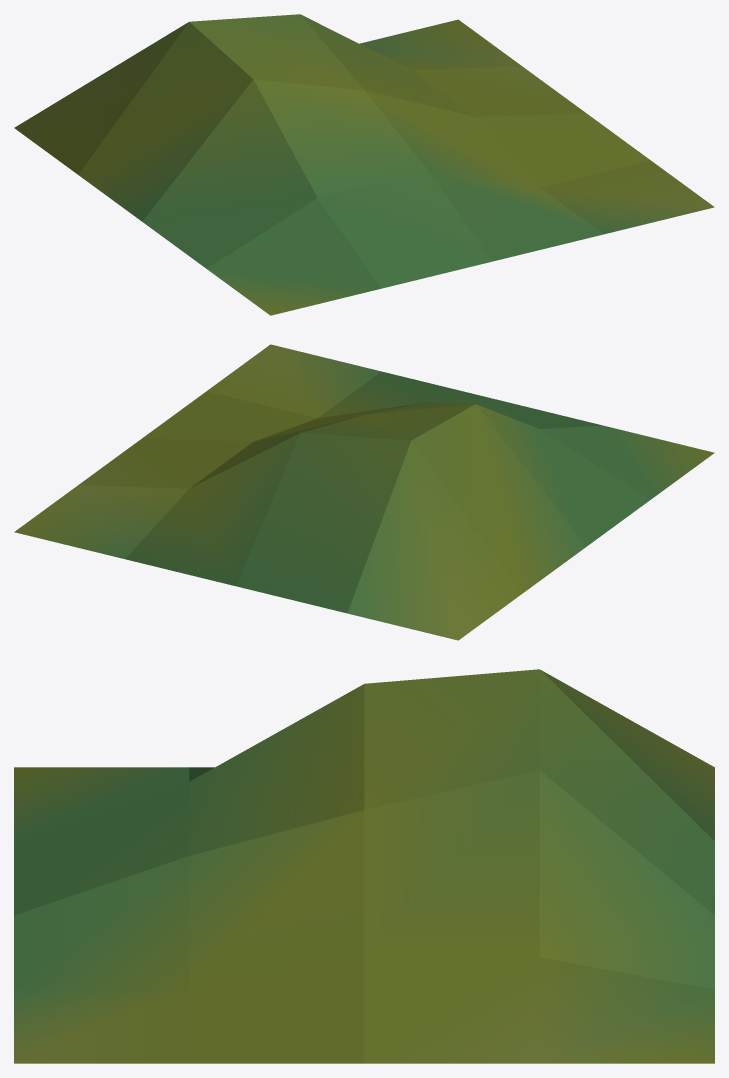
File: tile_6.fbx
3 renders of one model, top to bottom at view 1: azimuth 30°, elevation 25°; view 2: azimuth 150°, elevation 25°; view 3: azimuth 270°, elevation 25°, orthographic. The views are drawn at different scales.
Visible parts, largest first — view 1: Cube.470; view 2: Cube.470; view 3: Cube.470.
Part boxes in pixels (x1,y1,x2,y2): Cube.470: [14, 14, 714, 315]; Cube.470: [14, 344, 714, 640]; Cube.470: [14, 669, 714, 1063].
Size of the model in its own units: 400 by 108 by 400.
